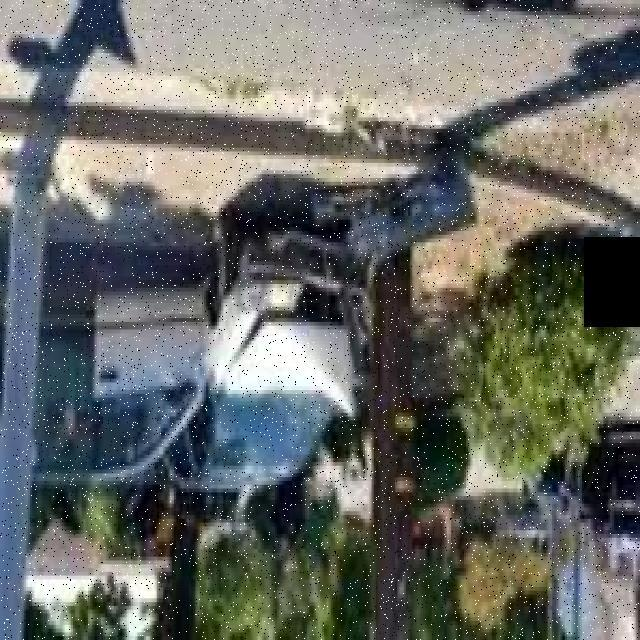moderate: (87, 220, 390, 516)
